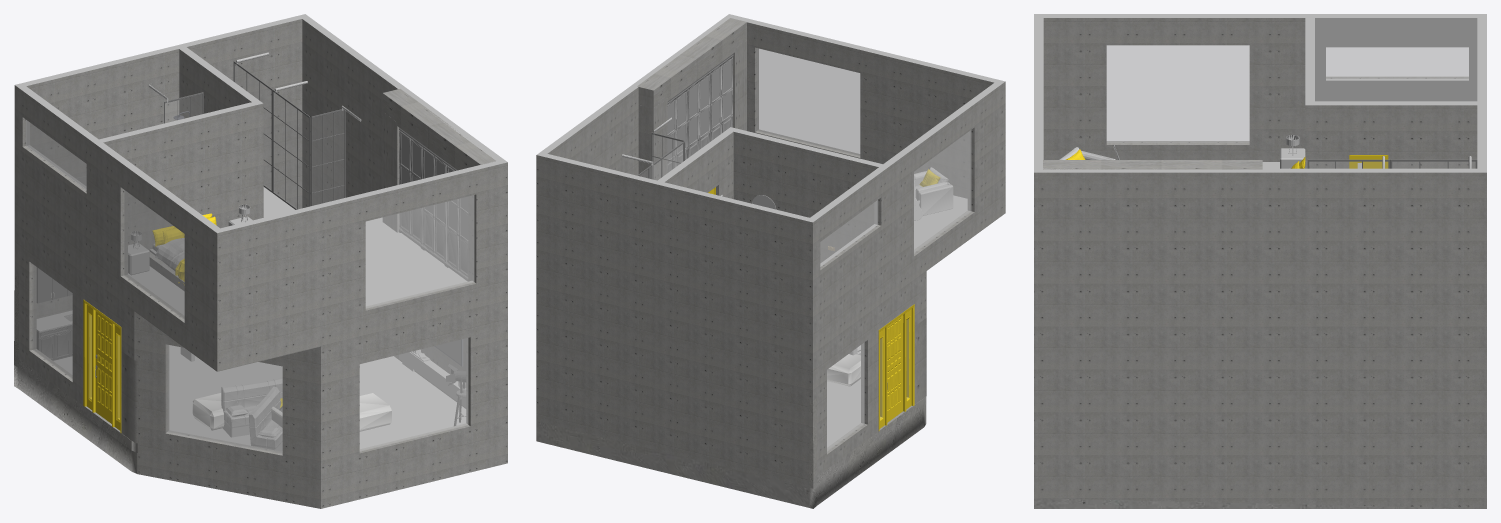
File: mansion.fbx
The picture shows the model from 3 angles, left to right: view 1: azimuth 30°, elevation 25°; view 2: azimuth 150°, elevation 25°; view 3: azimuth 270°, elevation 25°; orthographic projection. The views are drawn at different scales.
Parts seen in each view (by area): view 1: export; view 2: export; view 3: export.
Part boxes in pixels (left/top/right/bottom): export: left=14, top=14, right=507, bottom=508; export: left=536, top=14, right=1005, bottom=508; export: left=1034, top=14, right=1486, bottom=508.
Size of the model in its own units: 794 by 784 by 957.
